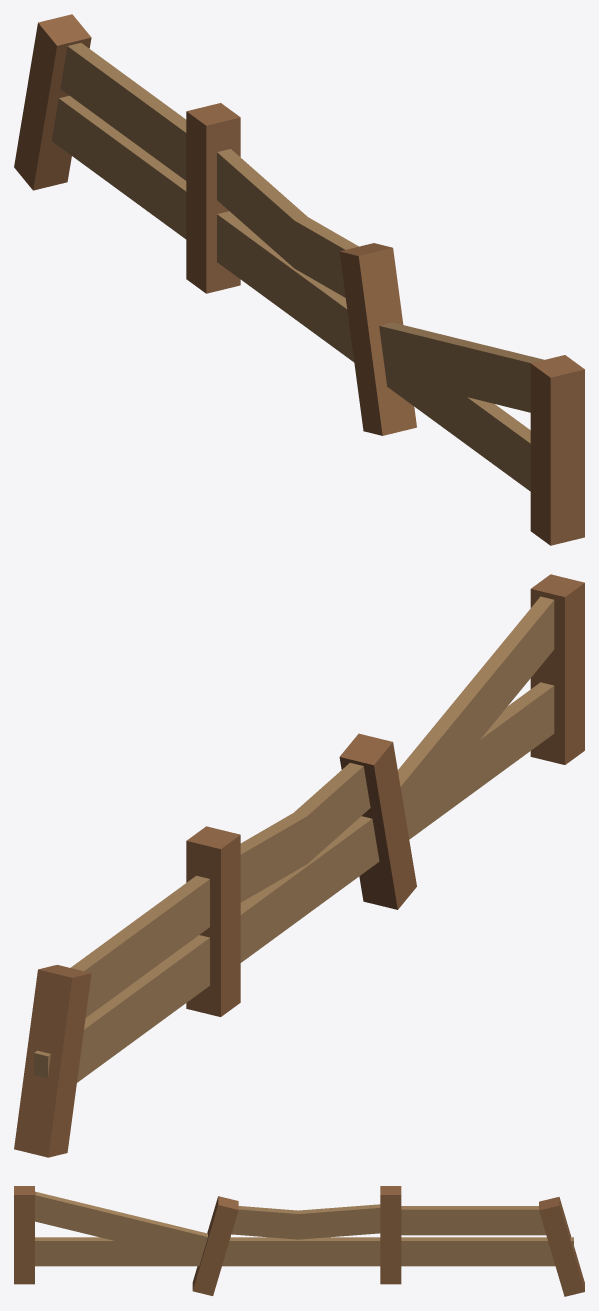
Rendered from desert fence 3.fbx.
3 views of the same model, one above another, from view 1: azimuth 30°, elevation 25°; view 2: azimuth 150°, elevation 25°; view 3: azimuth 270°, elevation 25° (orthographic). The views are drawn at different scales.
Parts seen in each view (by area): view 1: polySurface101; view 2: polySurface101; view 3: polySurface101.
Boxes of the visible parts, x1,y1,x2,y2 form: polySurface101: (14,14,584,545); polySurface101: (14,574,584,1157); polySurface101: (14,1186,584,1296).
Bounding box in the file's own units: 0.75 × 3.99 × 20.26.
